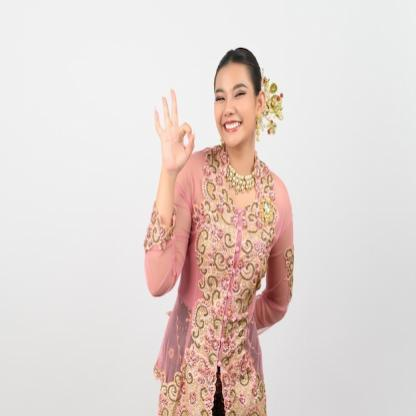ok: (152, 86, 197, 174)
